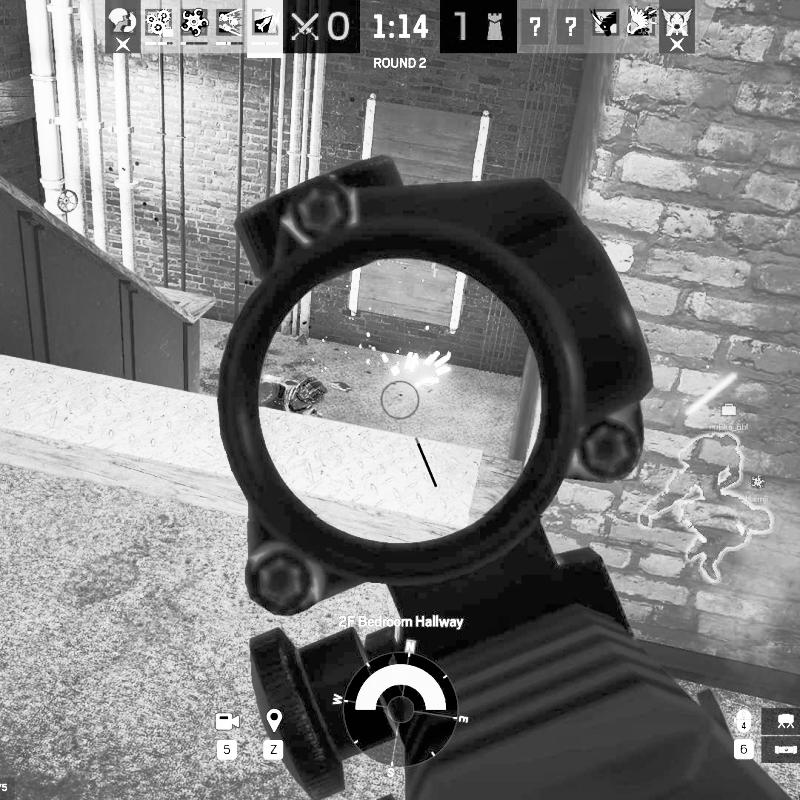Character: (255, 375, 329, 419)
Friend_label: (708, 400, 750, 432), (745, 472, 772, 504)
Head: (287, 376, 327, 414)
